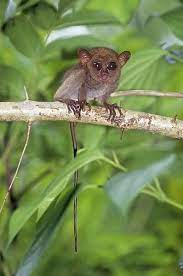tarsier: (51, 46, 130, 114)
